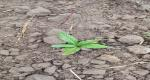bodyak: (49, 31, 119, 55)
